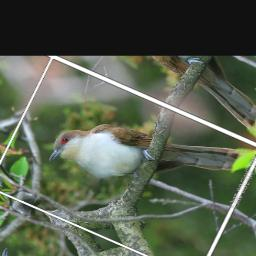Cuckoo: (44, 78, 255, 234)
